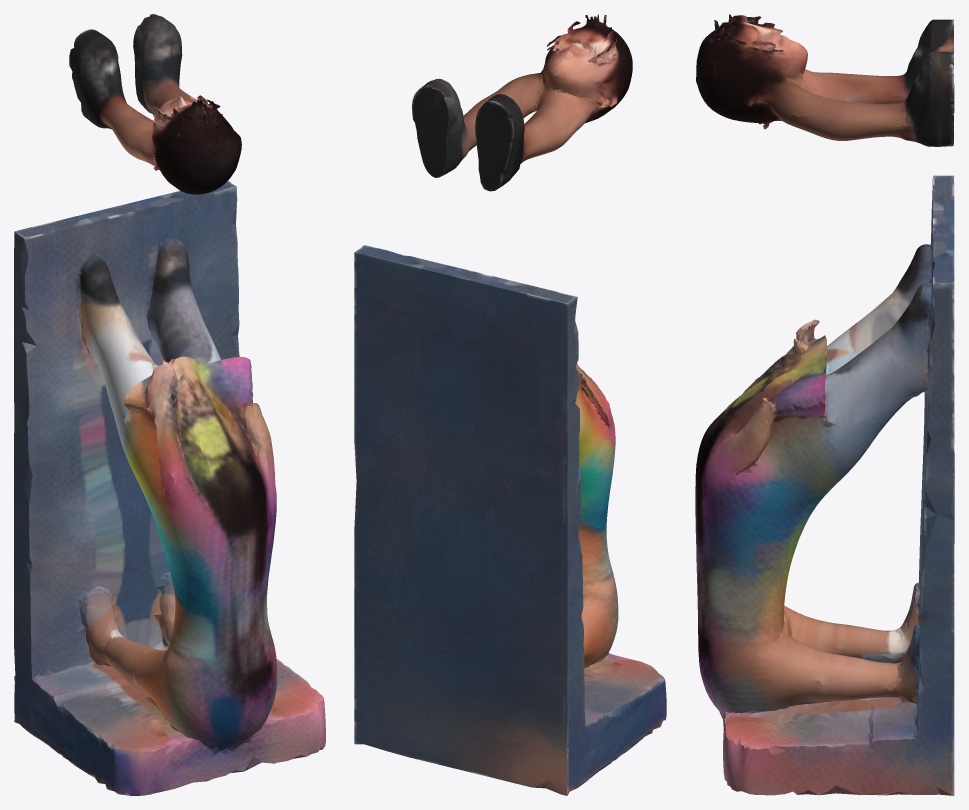
Rendered from lisabel.glb.
3 views of the same model, side by side, from view 1: azimuth 30°, elevation 25°; view 2: azimuth 150°, elevation 25°; view 3: azimuth 270°, elevation 25° (orthographic). The views are drawn at different scales.
Visible parts, largest first — view 1: Lisabel_AI; view 2: Lisabel_AI; view 3: Lisabel_AI.
Boxes of the visible parts, left/top/right/bottom form: Lisabel_AI: left=14, top=14, right=325, bottom=795; Lisabel_AI: left=354, top=14, right=666, bottom=795; Lisabel_AI: left=695, top=14, right=954, bottom=795.
Size of the model in its own units: 0.606 by 1.85 by 0.6099.
1 material, 1 textured.
